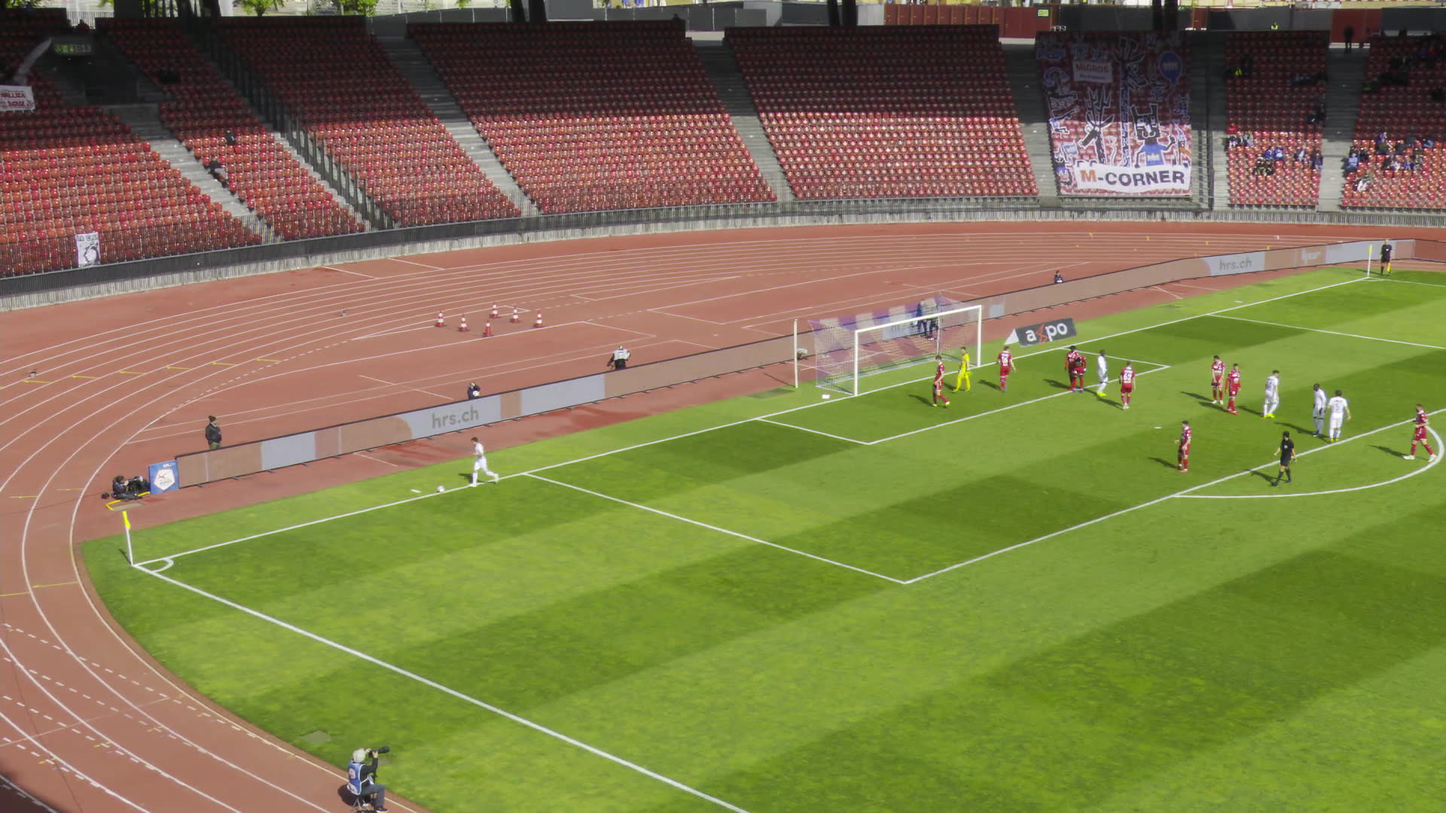ball: (439, 484, 447, 492)
player: (1402, 403, 1436, 461), (465, 437, 498, 486), (1325, 389, 1350, 443), (929, 354, 950, 408), (950, 346, 972, 392), (996, 346, 1014, 393), (1118, 362, 1135, 411), (1263, 369, 1280, 418), (1310, 384, 1325, 438), (1225, 364, 1241, 414), (1209, 355, 1225, 404), (1176, 421, 1191, 473), (1094, 349, 1109, 397), (1063, 345, 1078, 389), (1070, 355, 1086, 391)
referee: (1271, 431, 1295, 486), (1377, 239, 1389, 276)
